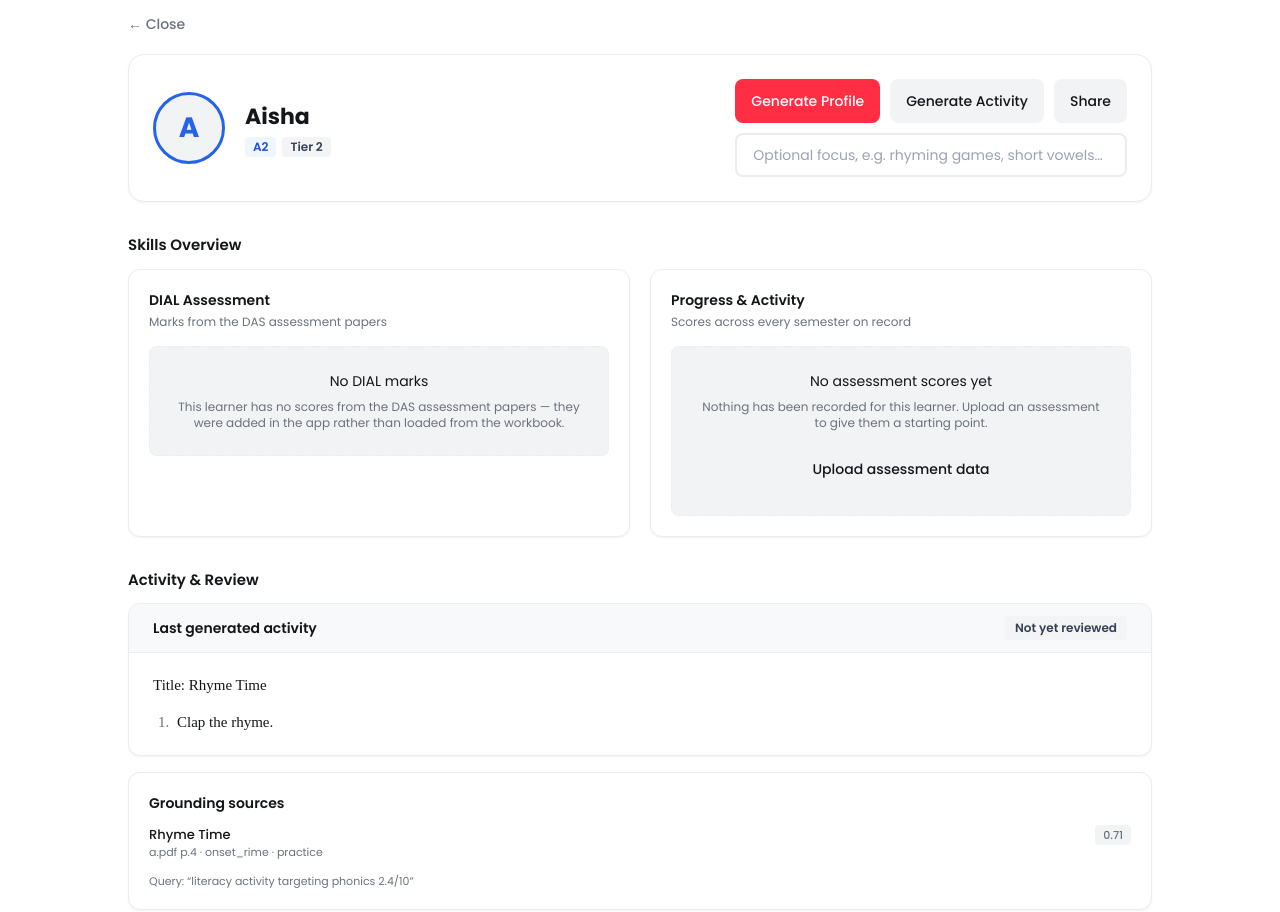
shows the refusal reason and keeps the previous activity on screen
The width and height of the screenshot is (1280, 912).
Click the button "Generate Activity" at (967, 101), box x1=890 y1=79 x2=1044 y2=123
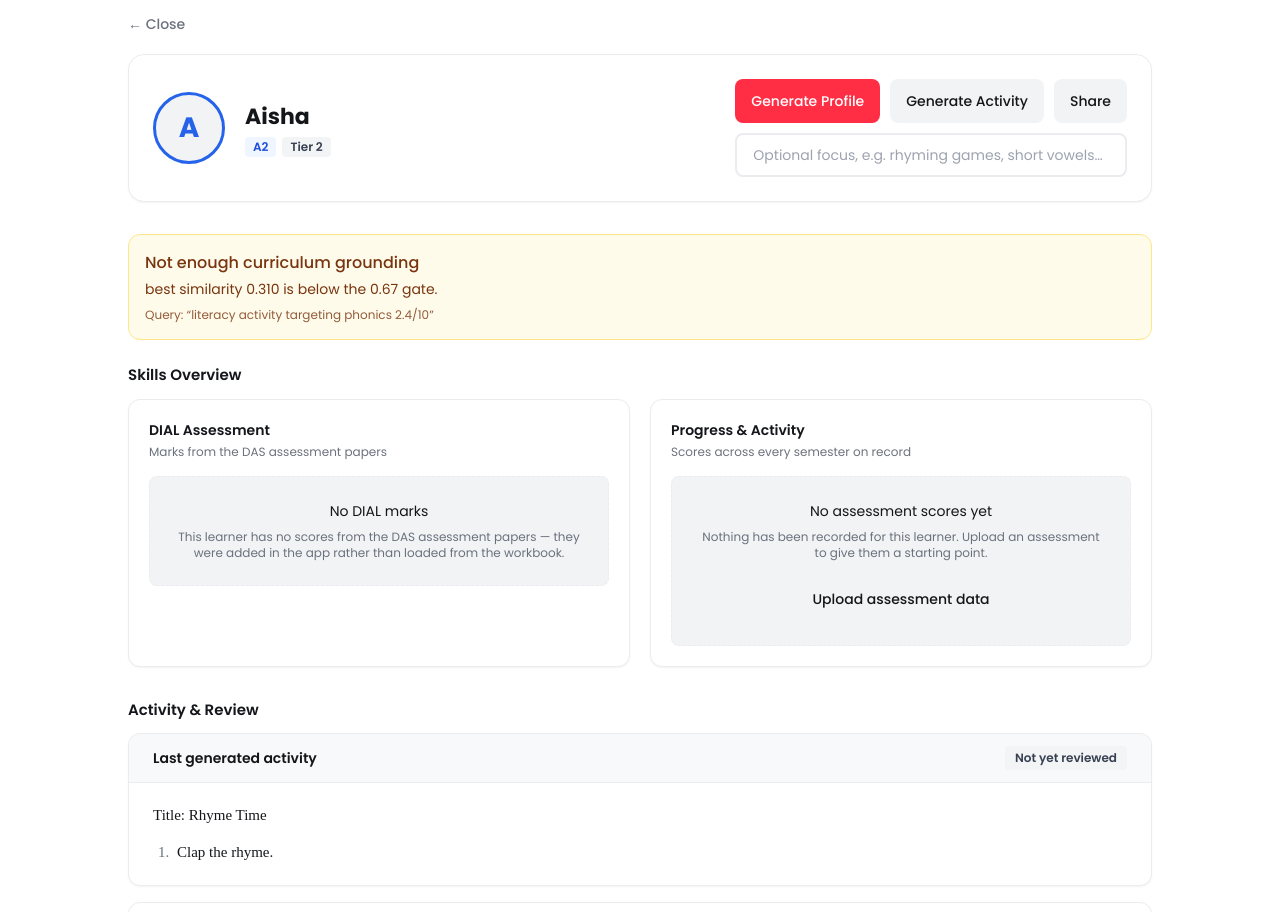
Expected: the list item "Clap the rhyme." is shown, x1=177 y1=844 x2=273 y2=860
Expected: the text "Not enough curriculum grounding" is shown, x1=145 y1=251 x2=419 y2=274
Expected: the text "best similarity 0.310 is below the 0.67 gate." is shown, x1=145 y1=279 x2=438 y2=299
